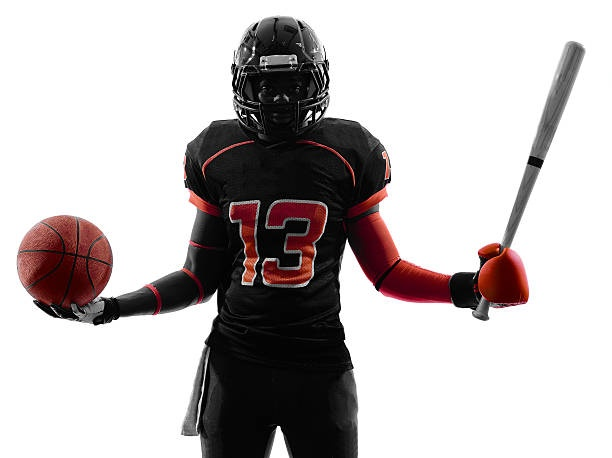bita: (472, 43, 588, 323)
